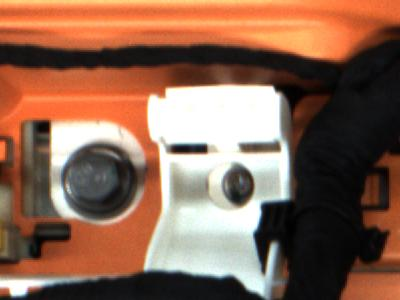nut_b: (62, 148, 134, 216)
